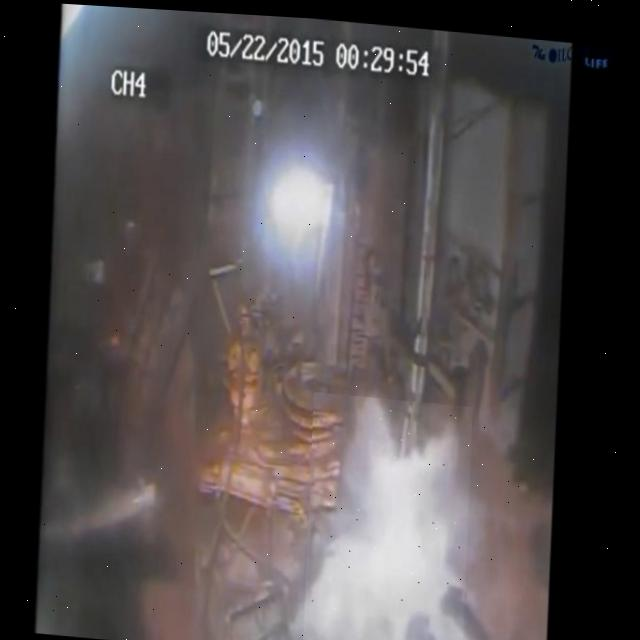spillage: (304, 388, 472, 640)
